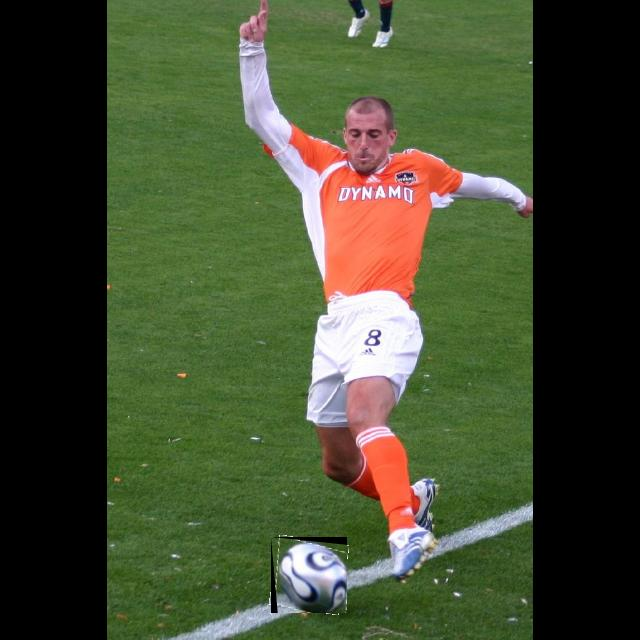Football: (271, 537, 347, 613)
